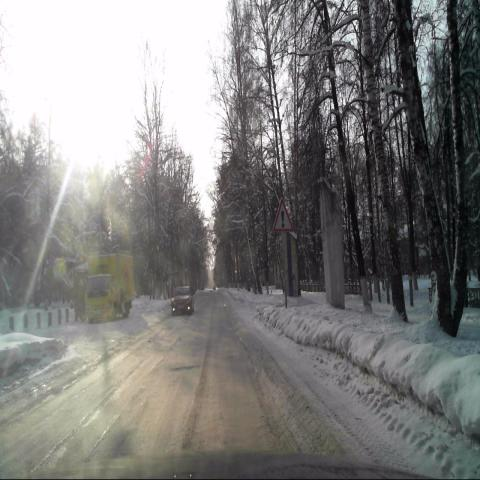1_33: (274, 199, 293, 233)
